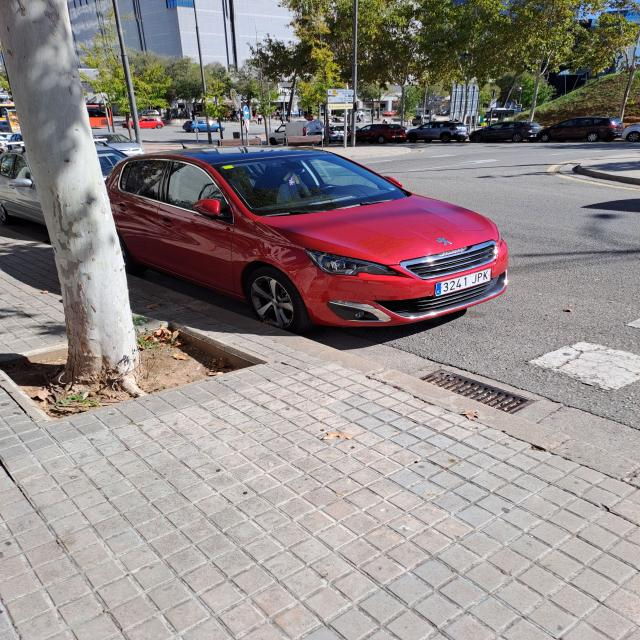license_plate-34Td: (435, 268, 491, 296)
